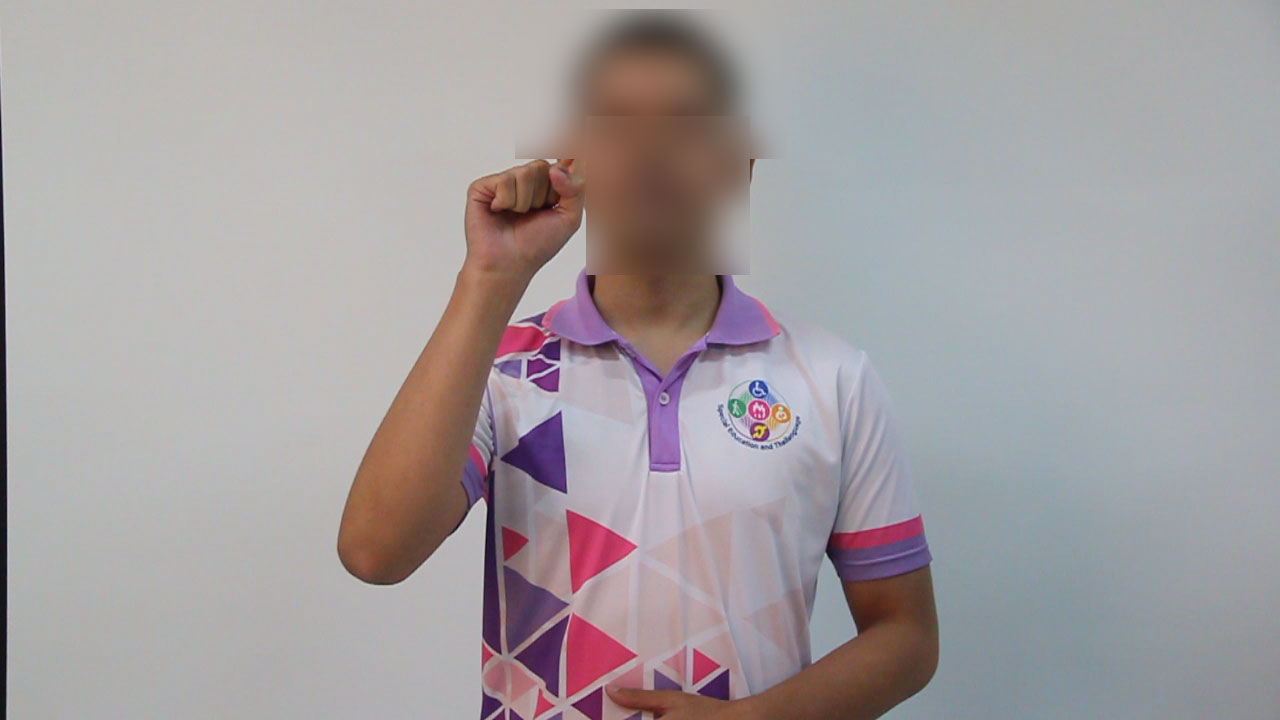sor: (460, 146, 587, 292)
